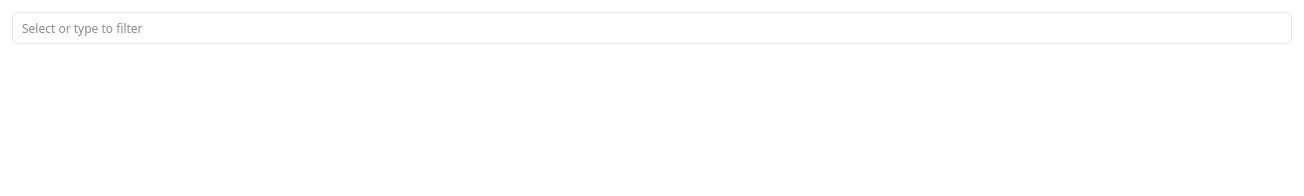
Test case: what reaches the draft › closes the list on Escape without closing the dialog around it
This screenshot has width=1304, height=196.
Focus the dropdown: (652, 28) [12,12,1292,44]
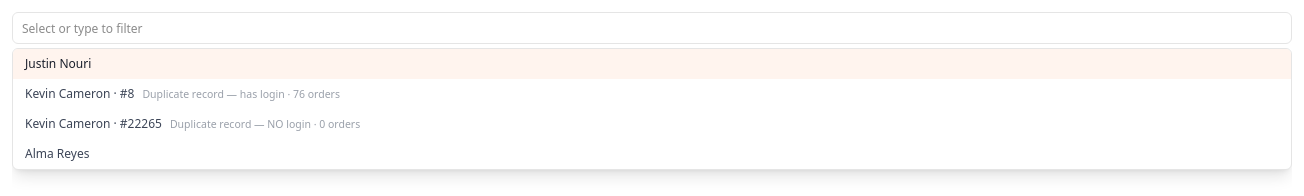
Result: the number of options is 4 at [13,49,1291,79]; [25,85,340,102]; [25,115,360,132]; [25,145,90,162]
Press Escape in the dropdown, box [12,12,1292,44]
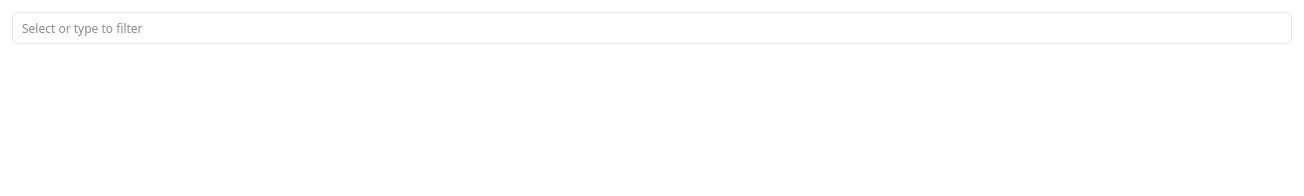
Result: no options are shown
